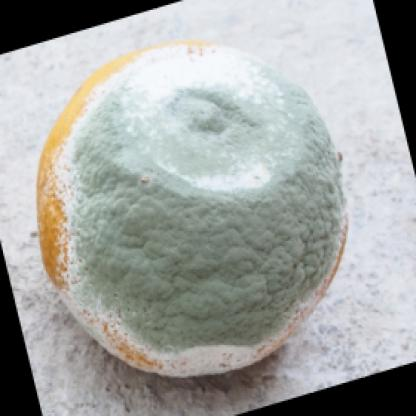rotten: (39, 42, 346, 377)
